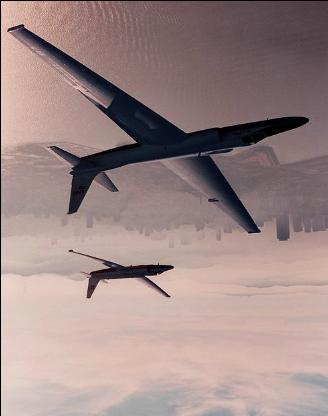Tu160: (5, 24, 307, 234), (67, 250, 172, 298)
